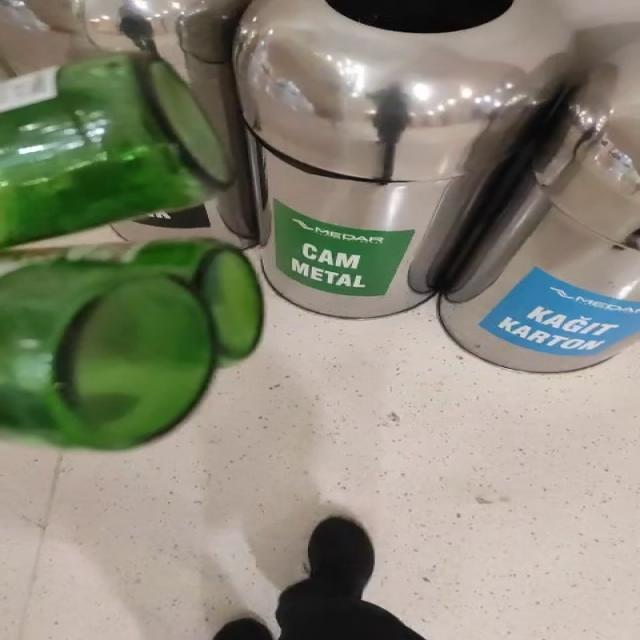bin: (235, 0, 573, 318)
glass: (1, 240, 263, 450), (1, 54, 229, 246)
